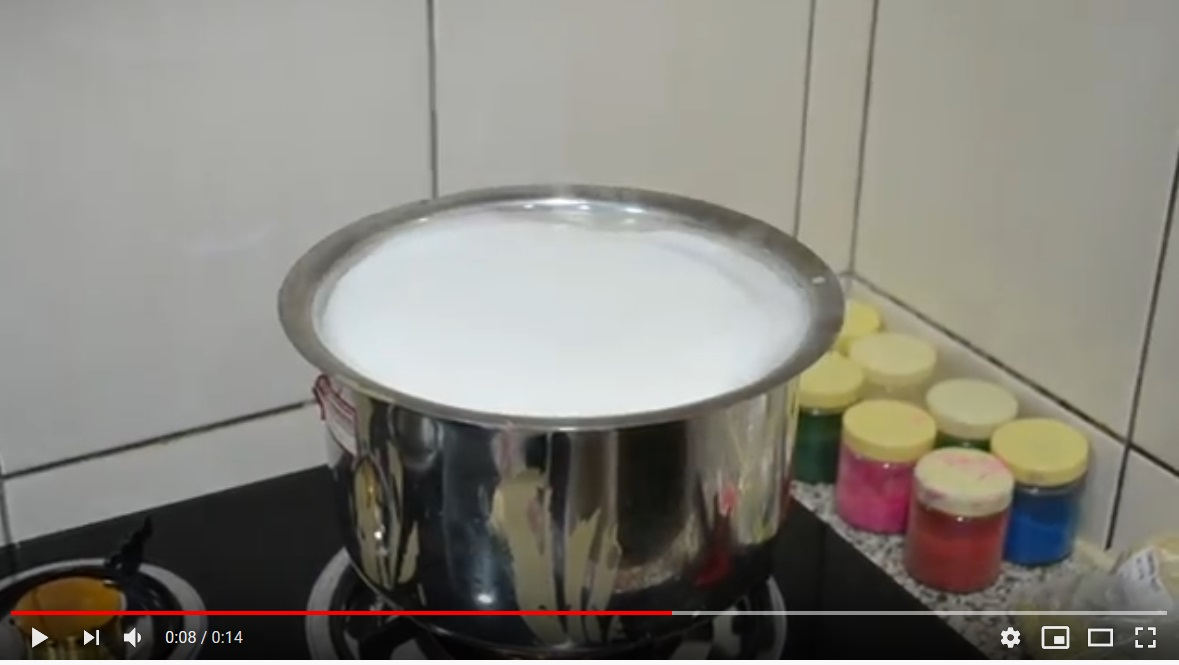Steaming: (241, 172, 835, 565)
